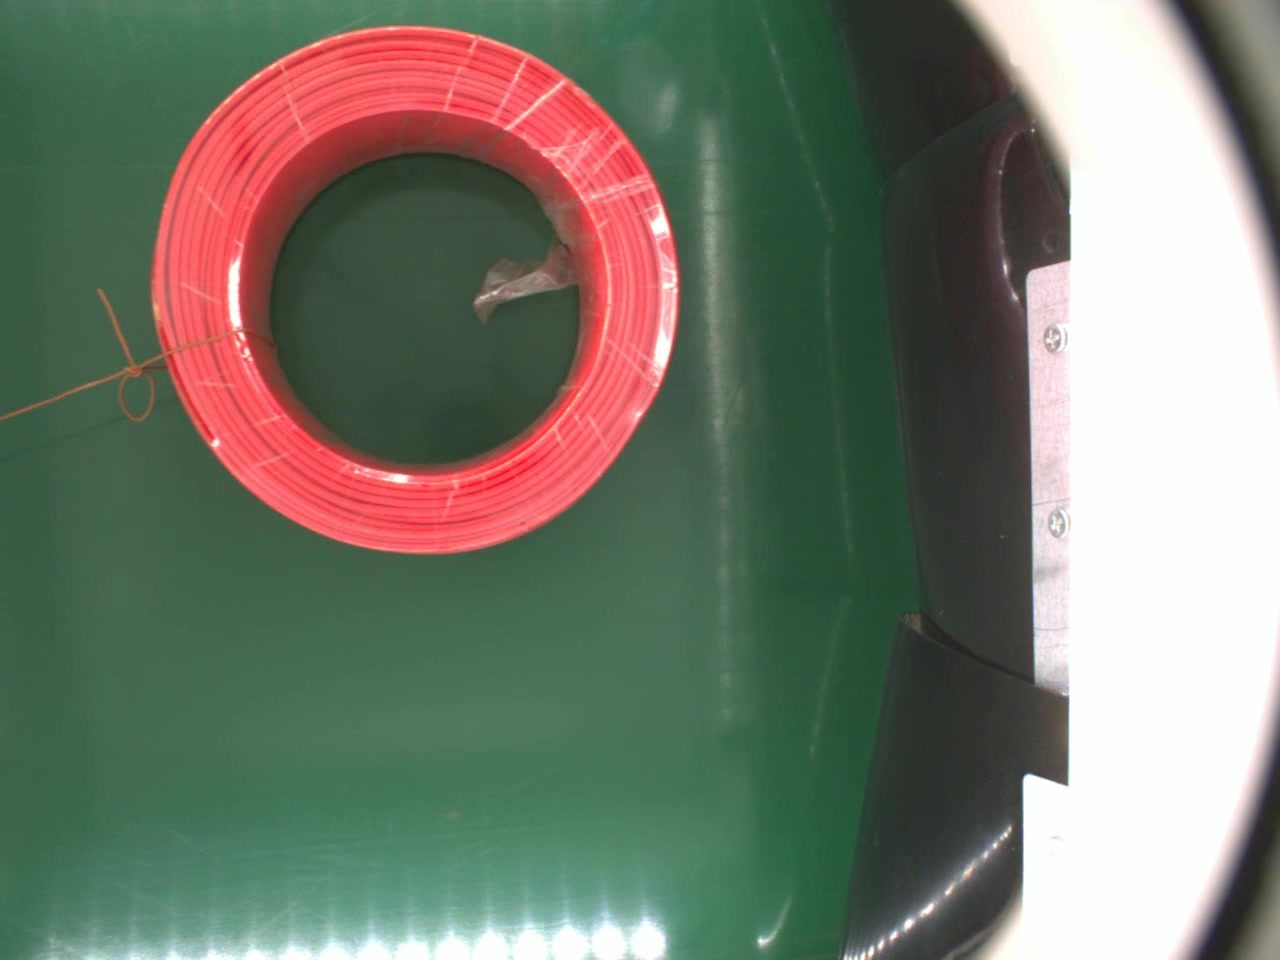red: (149, 21, 687, 562)
